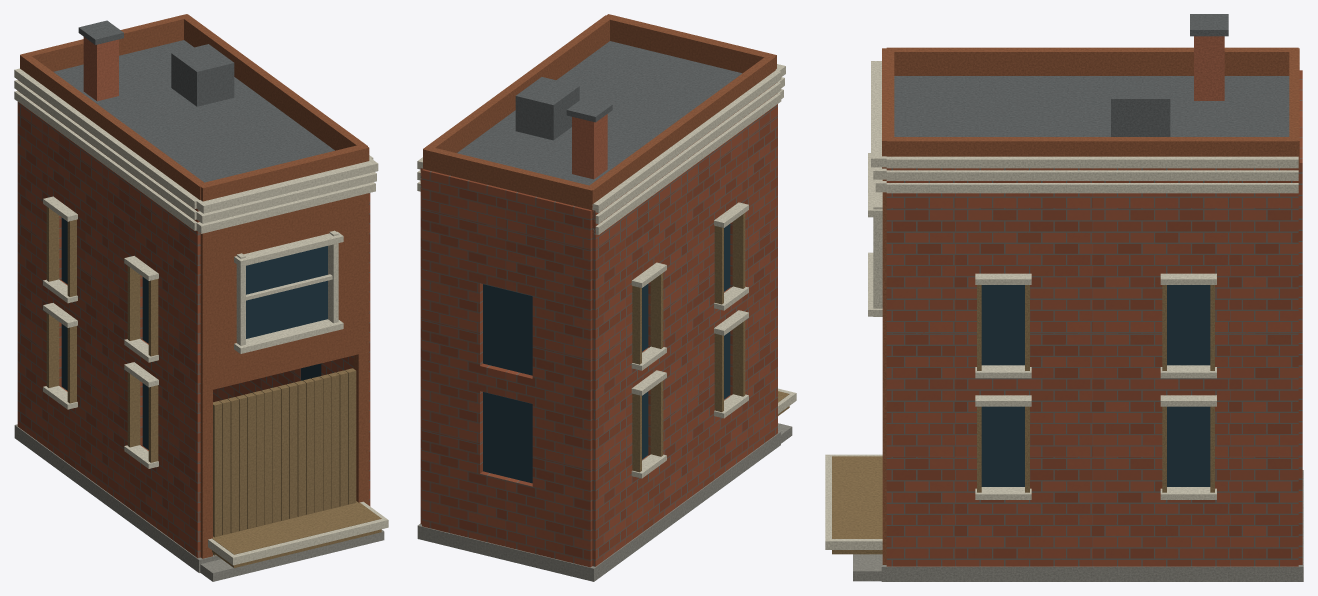
Rendered from WHSE17_lod2.glb.
3 views of the same model, side by side, from view 1: azimuth 30°, elevation 25°; view 2: azimuth 150°, elevation 25°; view 3: azimuth 270°, elevation 25° (orthographic). The views are drawn at different scales.
Visible parts, largest first — view 1: WHSE17_LOD2; view 2: WHSE17_LOD2; view 3: WHSE17_LOD2.
Part boxes in pixels (x1,y1,x2,y2): WHSE17_LOD2: [14, 14, 388, 581]; WHSE17_LOD2: [417, 14, 796, 581]; WHSE17_LOD2: [825, 14, 1303, 581].
Bounding box in the file's own units: 3.71 × 7.85 × 6.97.
Materials: 9 (7 with a texture image).
